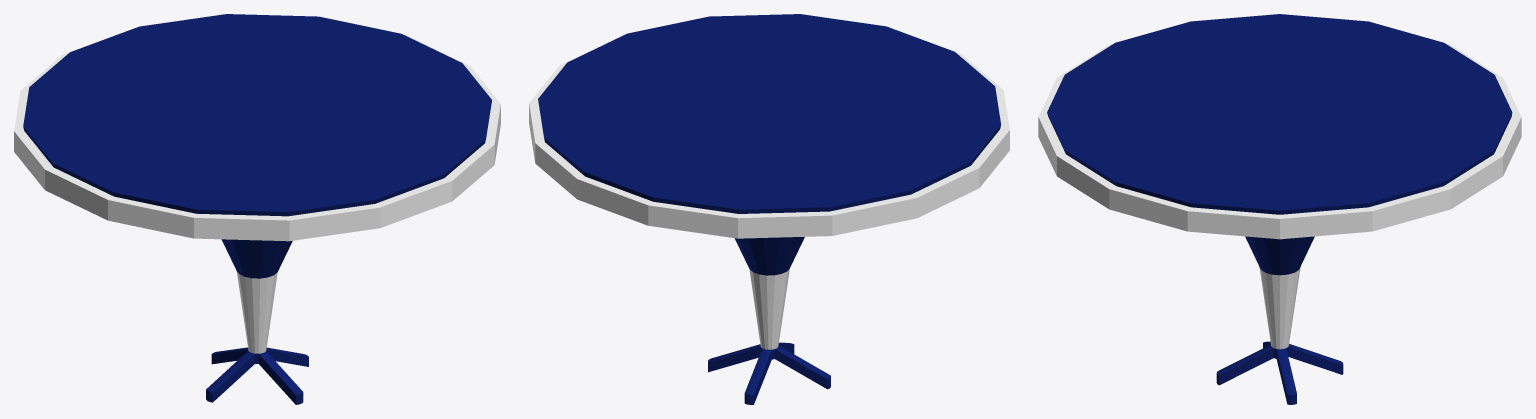
The model's file is mesa.fbx.
3 views of the same model, side by side, from view 1: azimuth 30°, elevation 25°; view 2: azimuth 150°, elevation 25°; view 3: azimuth 270°, elevation 25° (orthographic).
Parts seen in each view (by area): view 1: Cylinder001; view 2: Cylinder001; view 3: Cylinder001.
Part boxes in pixels (x1,y1,x2,y2): Cylinder001: (14,14,500,404); Cylinder001: (529,14,1009,404); Cylinder001: (1038,14,1521,404).
Bounding box in the file's own units: 400 × 243 × 400.
